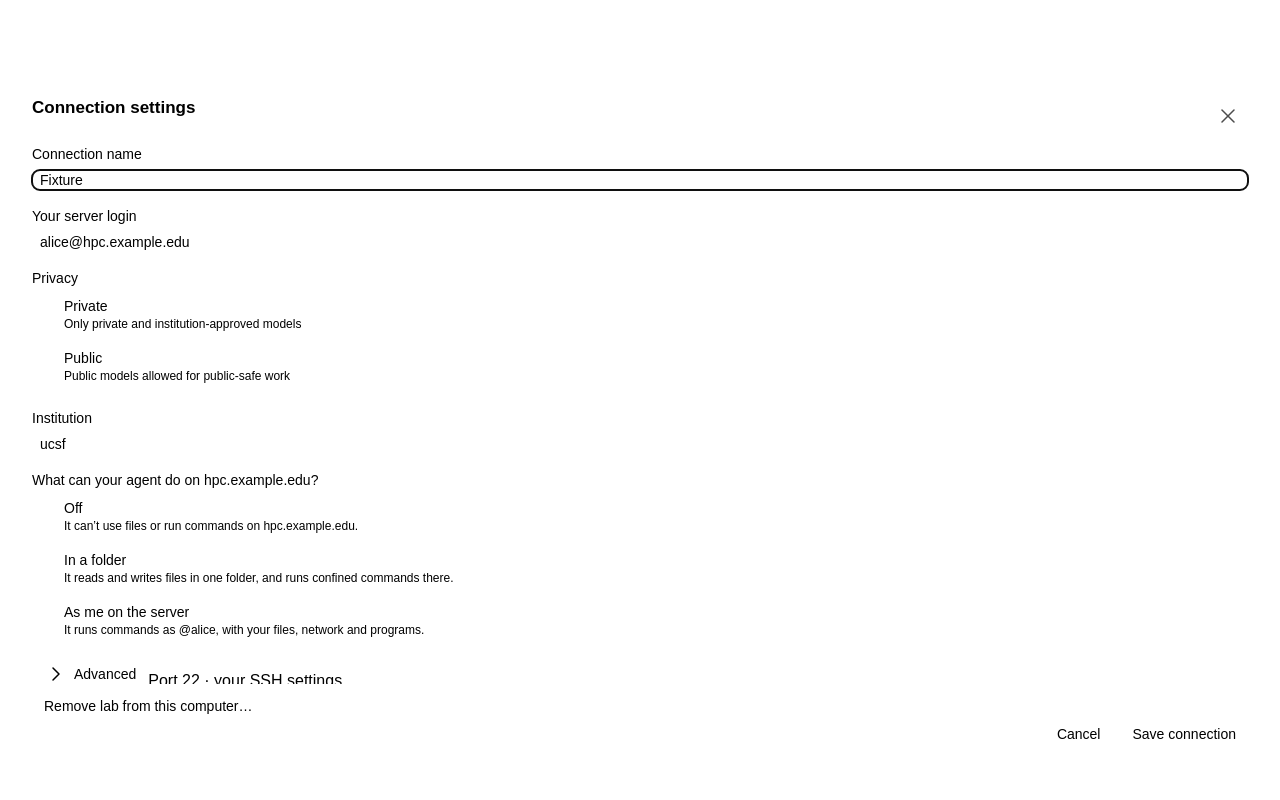
ConnectionSettingsDialog › refuses an institution that is not a canonical ID, under the v-flag pattern browsers use
The image size is (1280, 800).
Replace the text in the field with placeholder "For example, ucsf or sdsc" with "UCSF": [640, 444] box x1=32 y1=434 x2=1248 y2=454
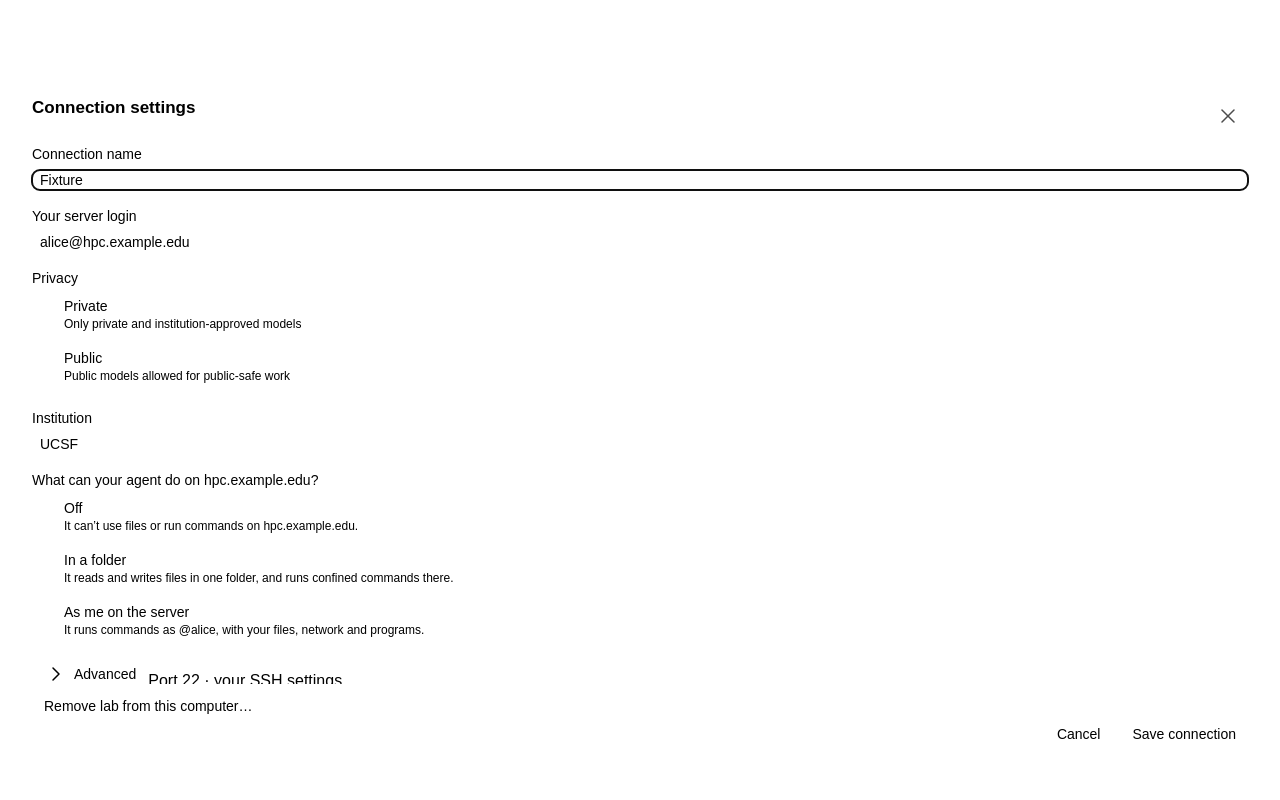
Click the button "Save connection": [1184, 734] box x1=1120 y1=724 x2=1248 y2=744
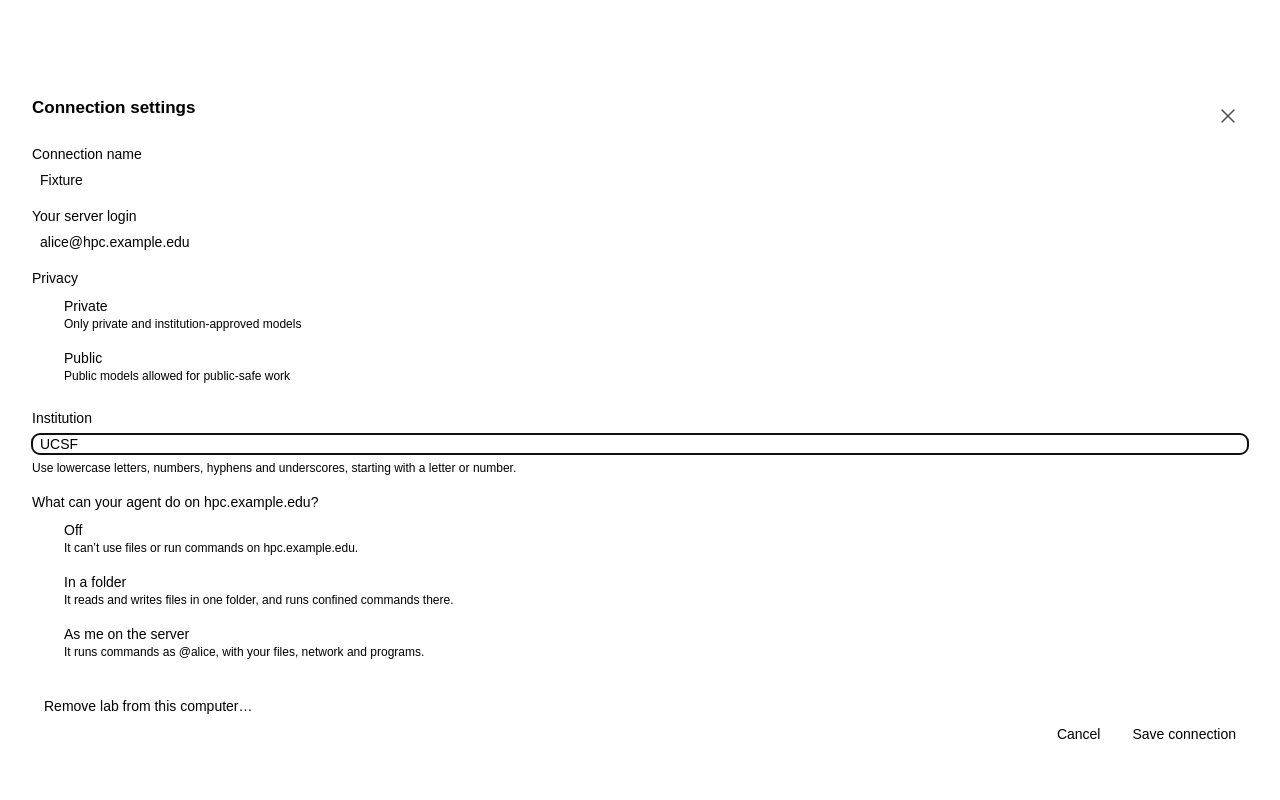
Result: the text "Use lowercase letters, numbers, hyphens and underscores, starting with a letter or number." is shown at x1=32 y1=461 x2=516 y2=475
